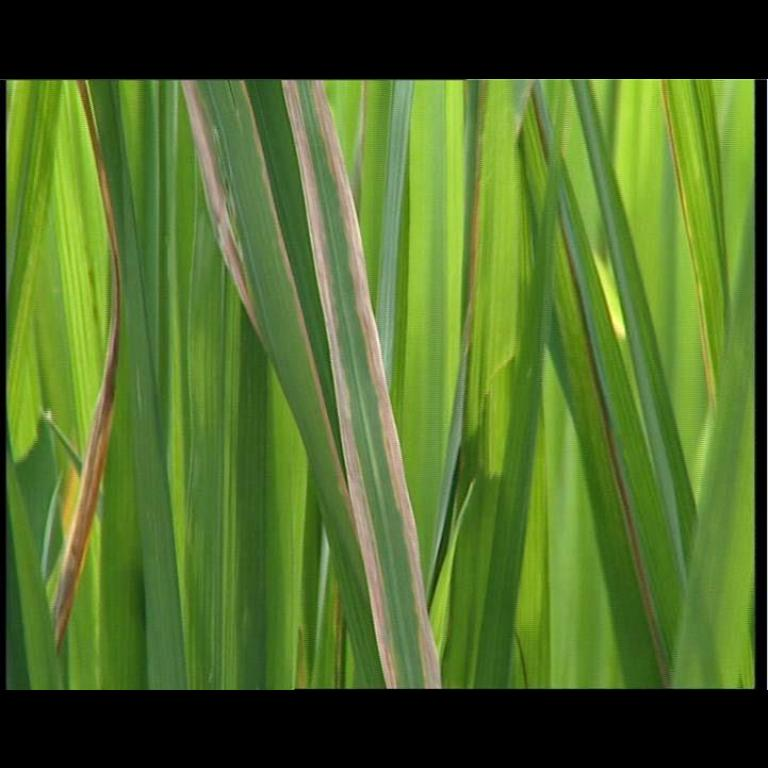blight: (304, 147, 438, 655)
